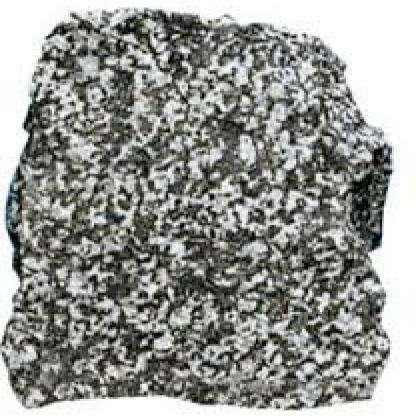Igneous_Diorite: (2, 8, 402, 414)
